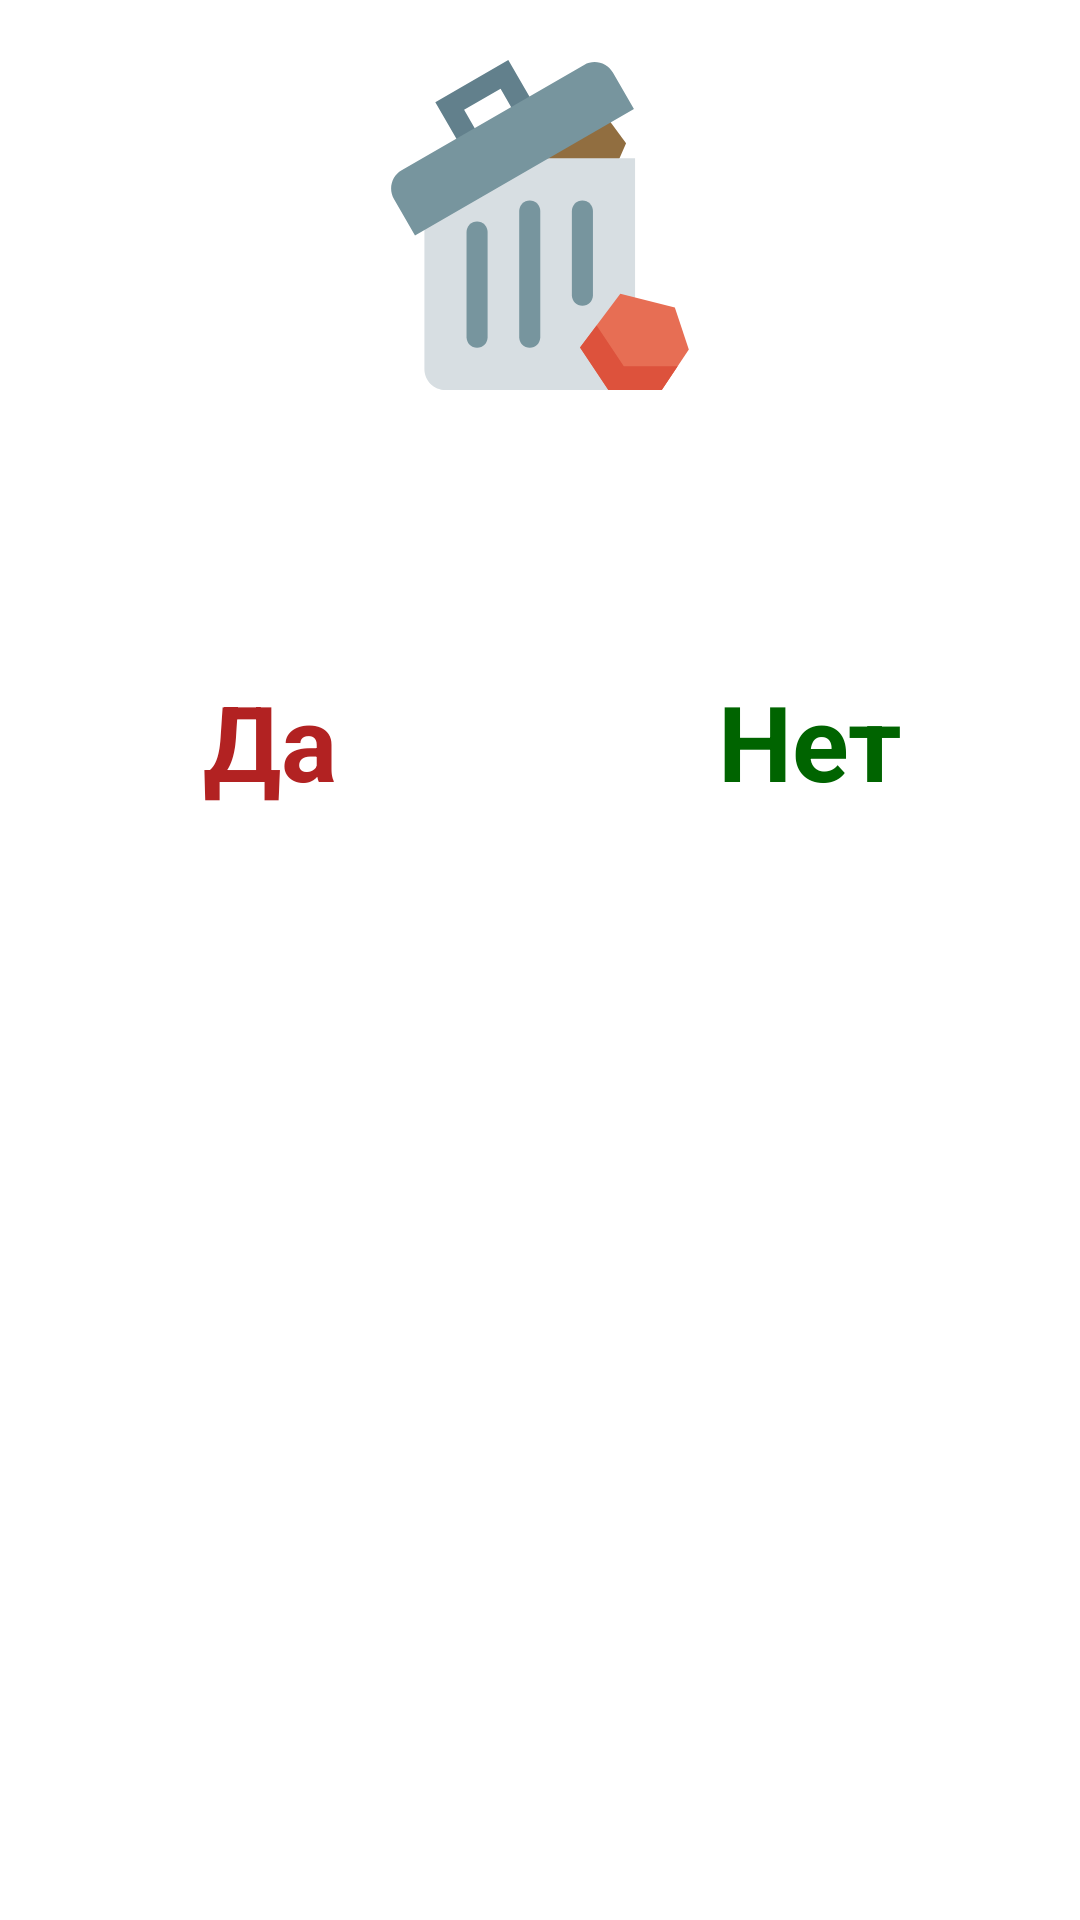

Locate icon controls on the screen. Image size 1080 × 1920, boxes as (x1, y1, x2, y2).
bin: (391, 60, 689, 390)
